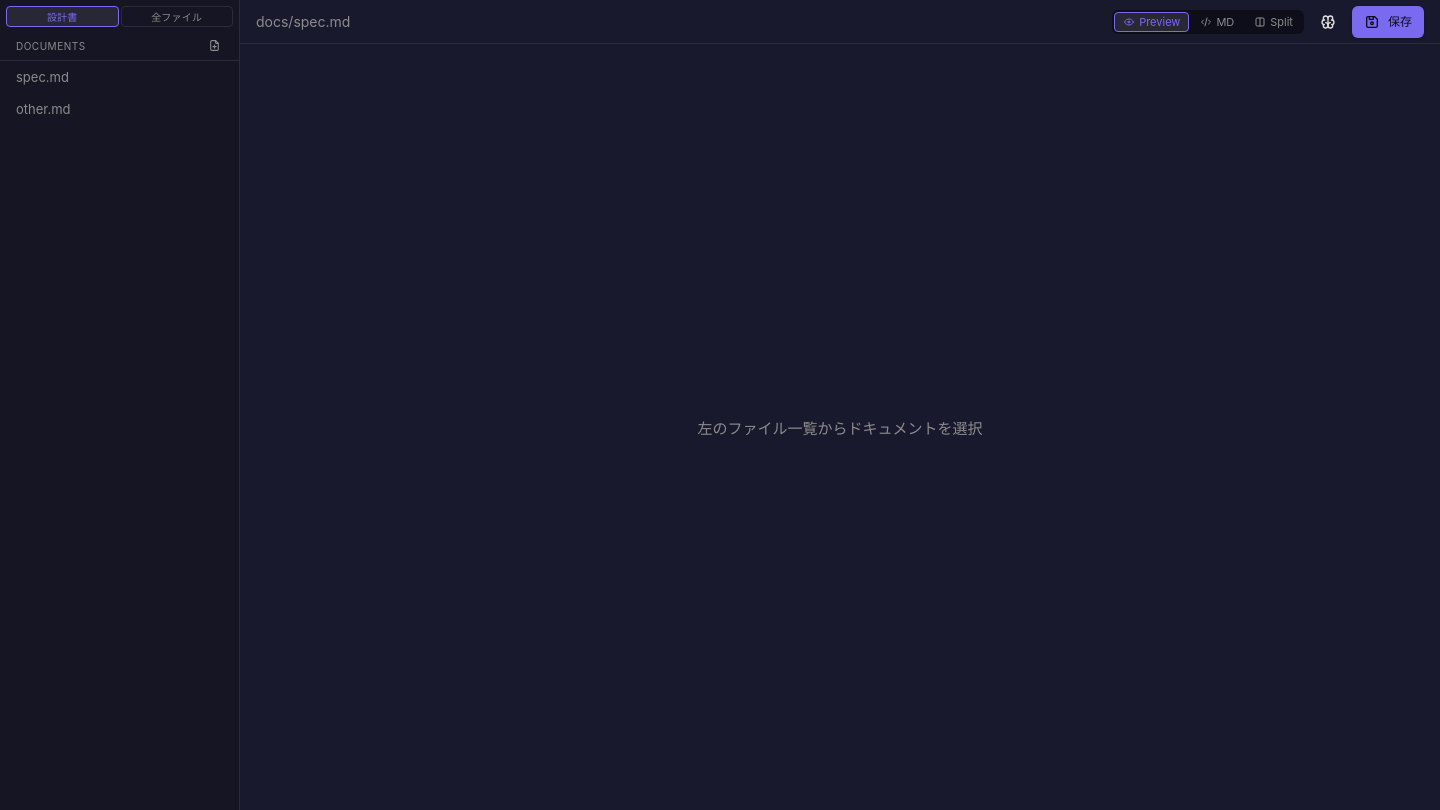
Scenario: EditorScreen — UnsavedWarningModal › dirty doc で別ドキュメントクリックすると UnsavedWarningModal が表示される
The width and height of the screenshot is (1440, 810).
Click the button "other.md".
click(107, 109)  # box [2, 93, 212, 125]
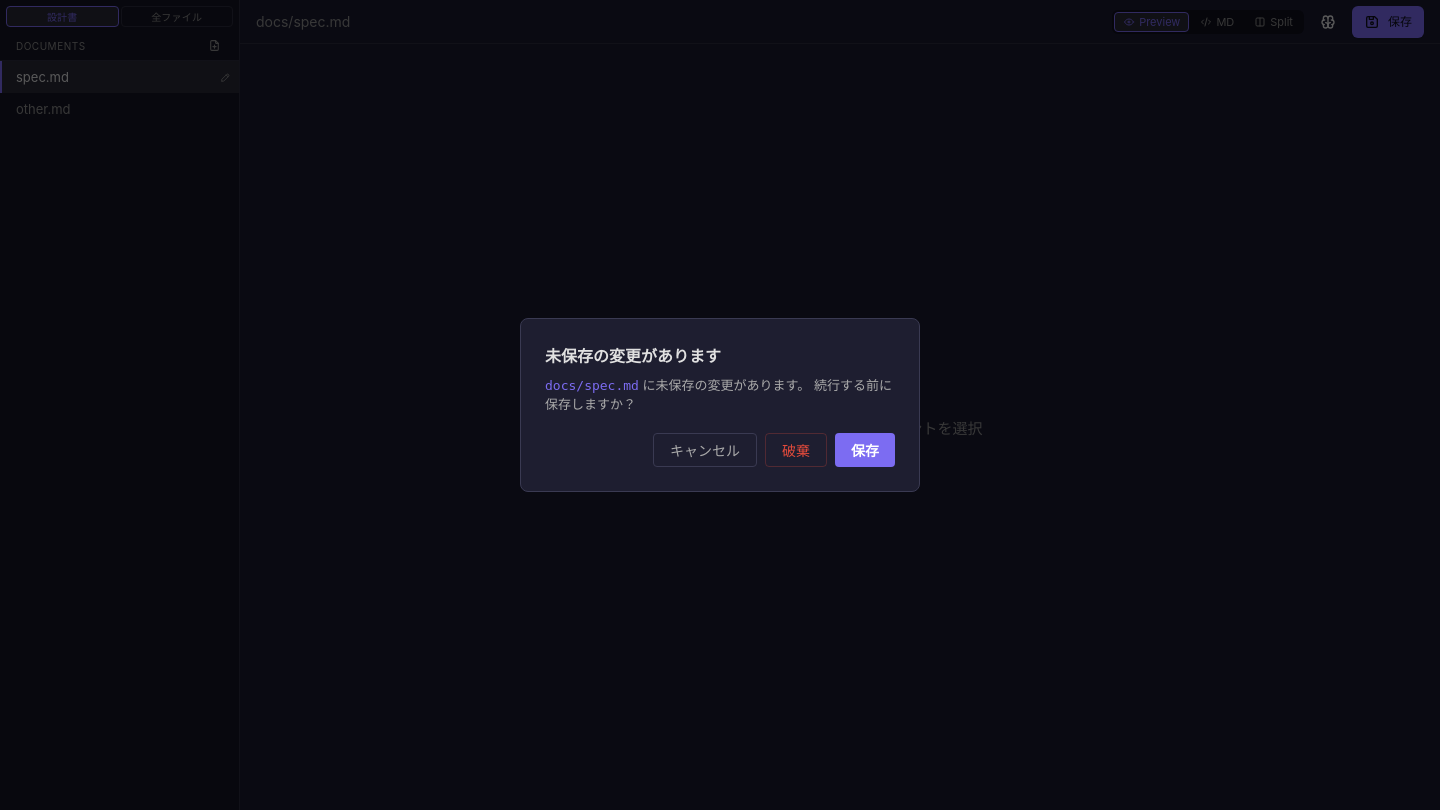
Check: the dialog with test id "unsaved-warning-modal" is shown, box [520, 318, 920, 492]
